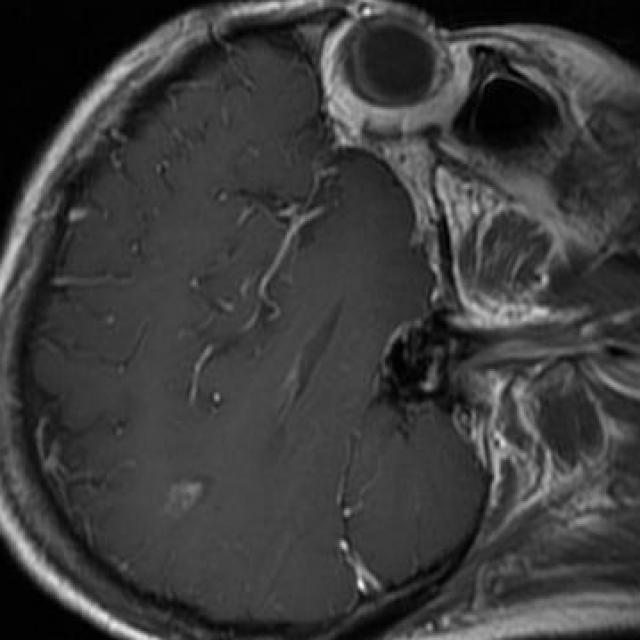glioma: (162, 480, 210, 521)
